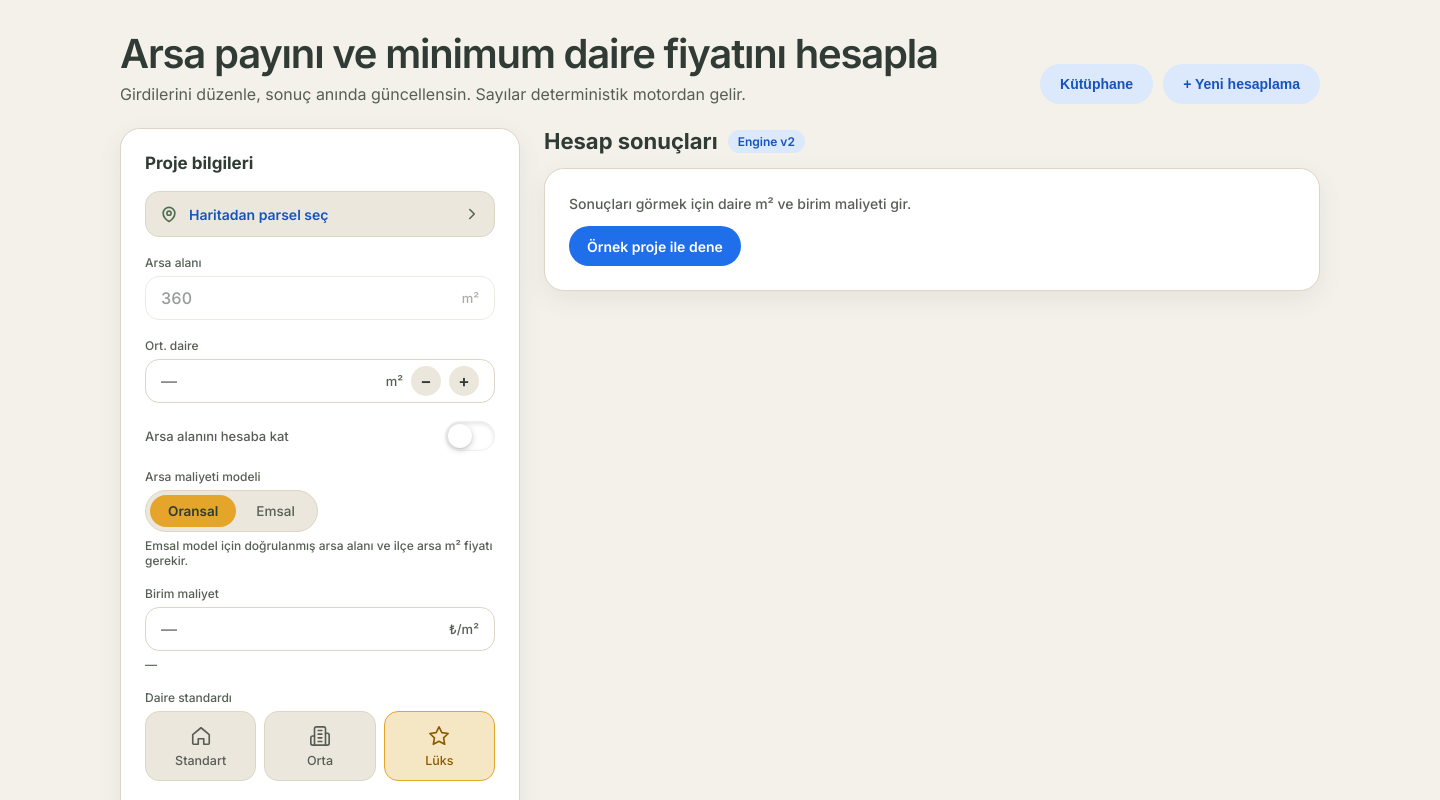
Test: /hesapla — masaüstü Maksimum Sürdürülebilir Arsa Payı (denetim bulgusu C6) › piyasa fiyatı girilince x_max yüzde olarak gösterilir
This screenshot has width=1440, height=800.
Click the button "Örnek proje ile dene" at coordinates (655, 246), box [569, 226, 741, 266]
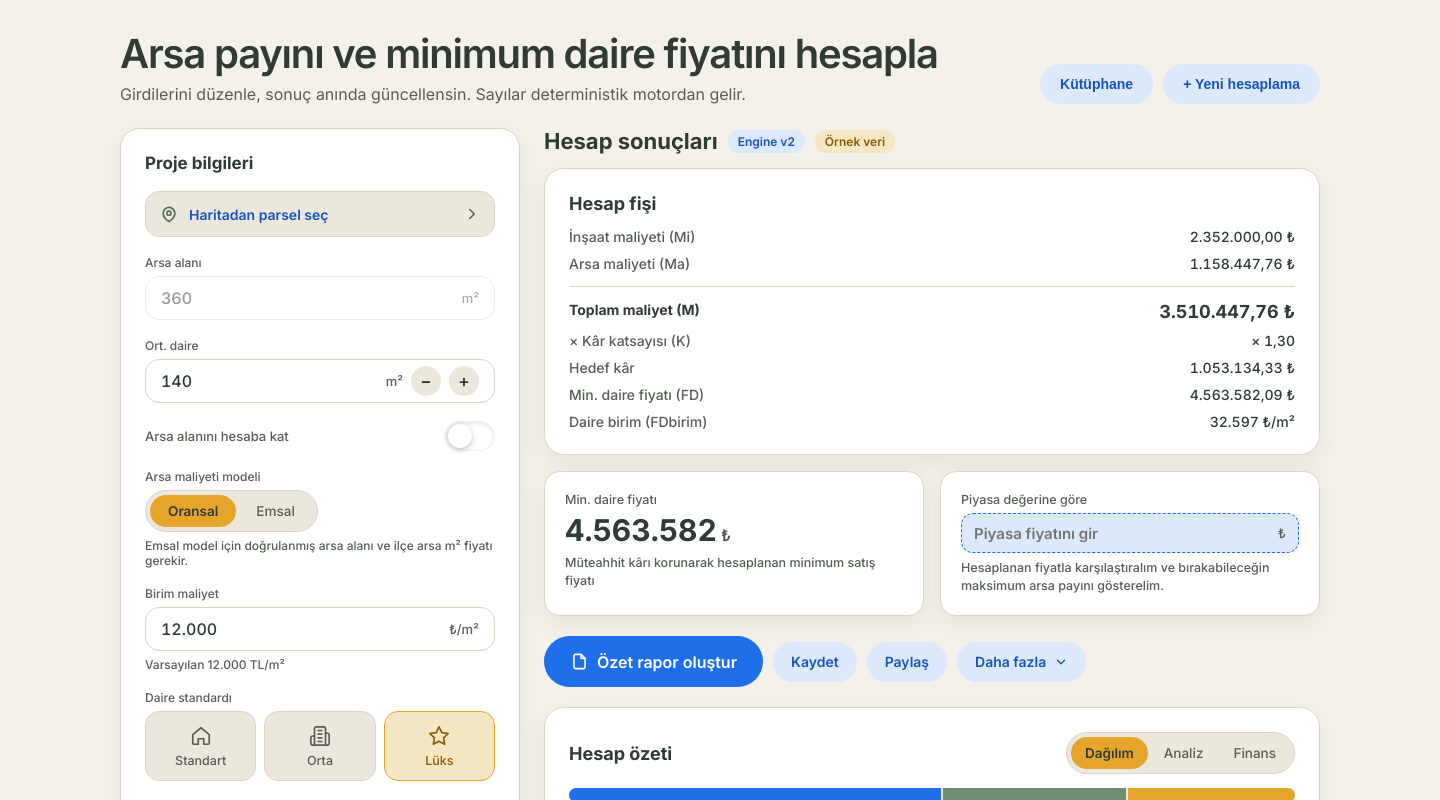
Type "10000000" into the field named "Yaklaşık Piyasa Fiyatı" at coordinates (1122, 533), box [974, 524, 1270, 542]
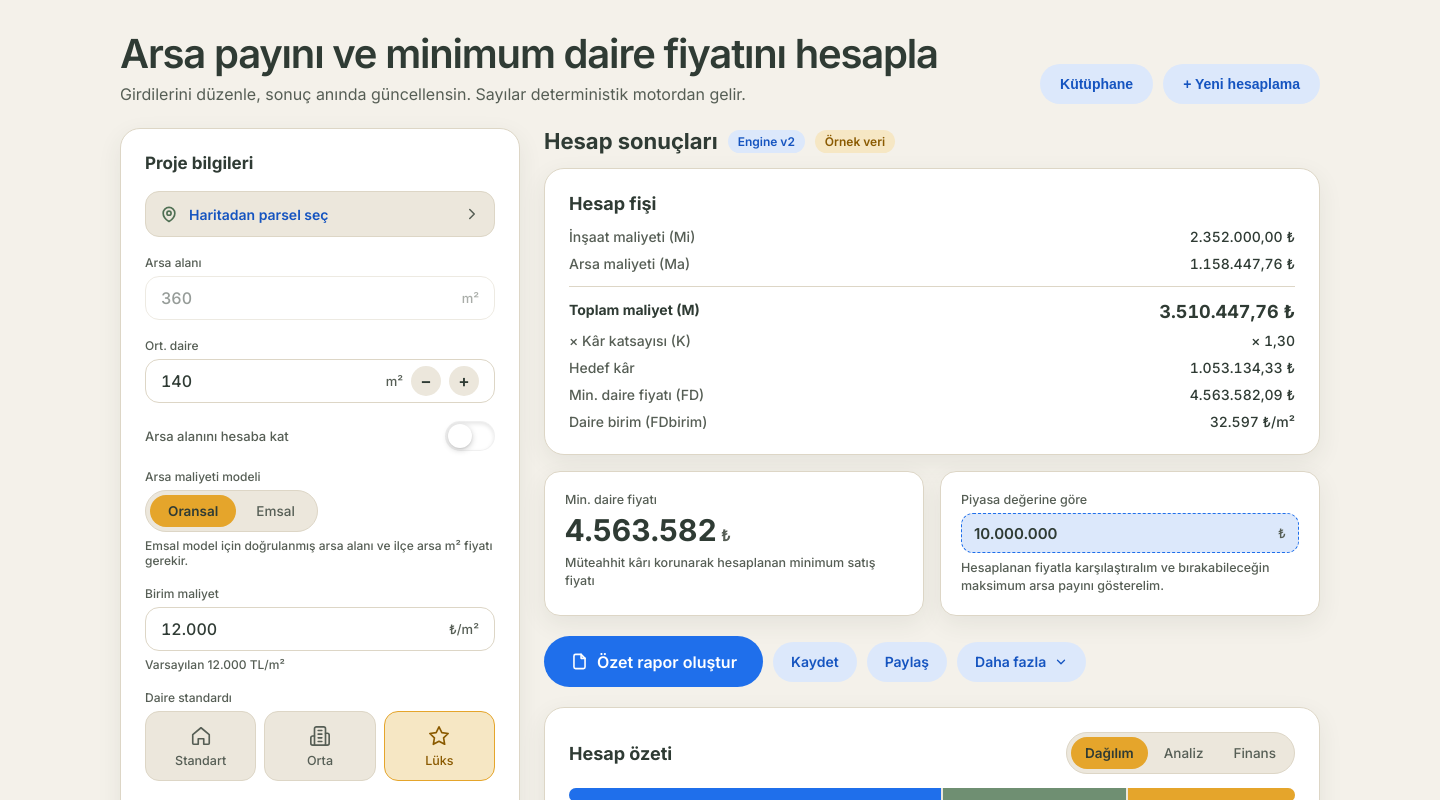
Press Enter
(page scrolled)
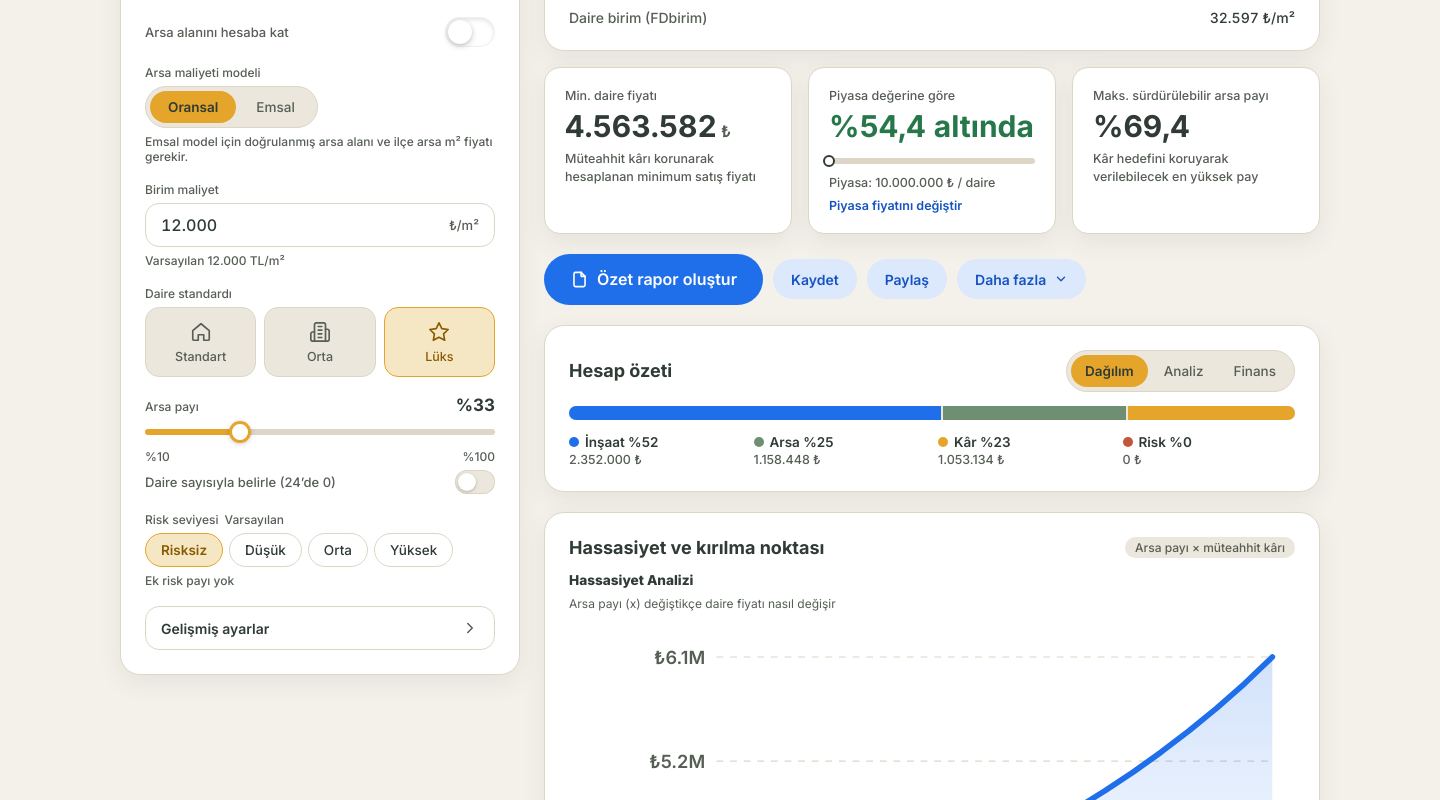
Expected: the text "%33" is shown, [456, 395, 495, 415]
Now the text "Maks. sürdürülebilir arsa payı" is shown, box [1093, 88, 1299, 103]
